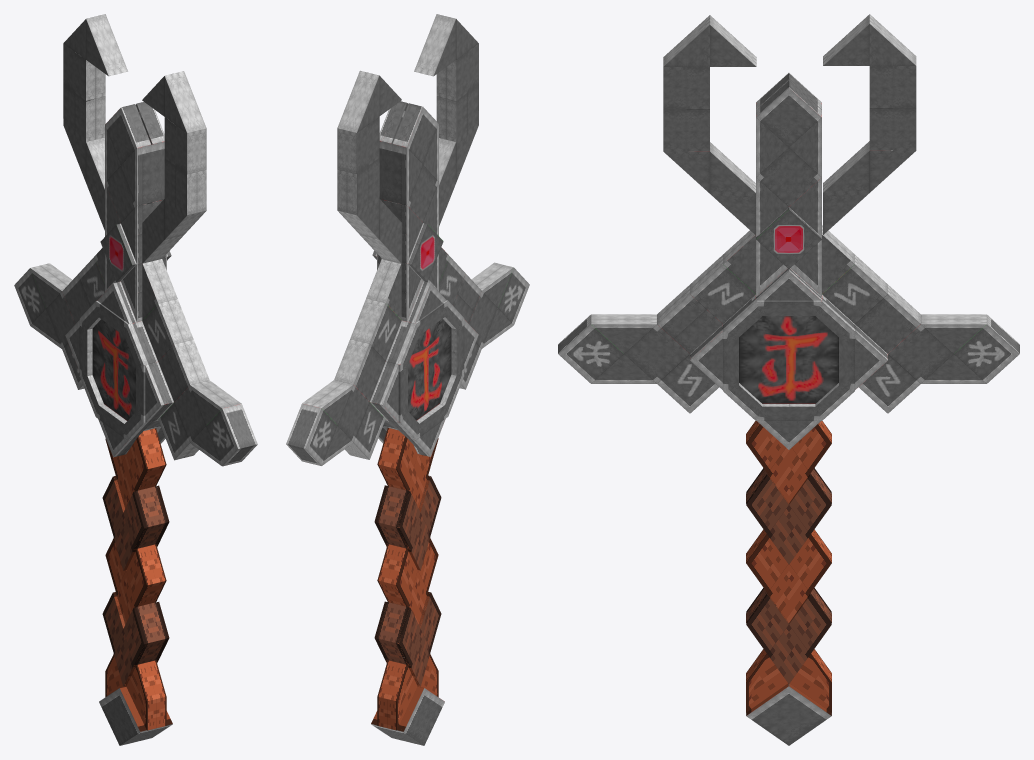
File: closed_sword.obj
The picture shows the model from 3 angles, left to right: view 1: azimuth 30°, elevation 25°; view 2: azimuth 150°, elevation 25°; view 3: azimuth 270°, elevation 25°; orthographic projection. The views are drawn at different scales.
Visible parts, largest first — view 1: closed_sword.005_Cube.000; view 2: closed_sword.005_Cube.000; view 3: closed_sword.005_Cube.000.
Boxes of the visible parts, box(x1,y1,x2,y2) form: closed_sword.005_Cube.000: box(14, 14, 257, 745); closed_sword.005_Cube.000: box(286, 14, 529, 745); closed_sword.005_Cube.000: box(558, 14, 1019, 745).
Size of the model in its own units: 0.0927 by 1.27 by 0.7425.
